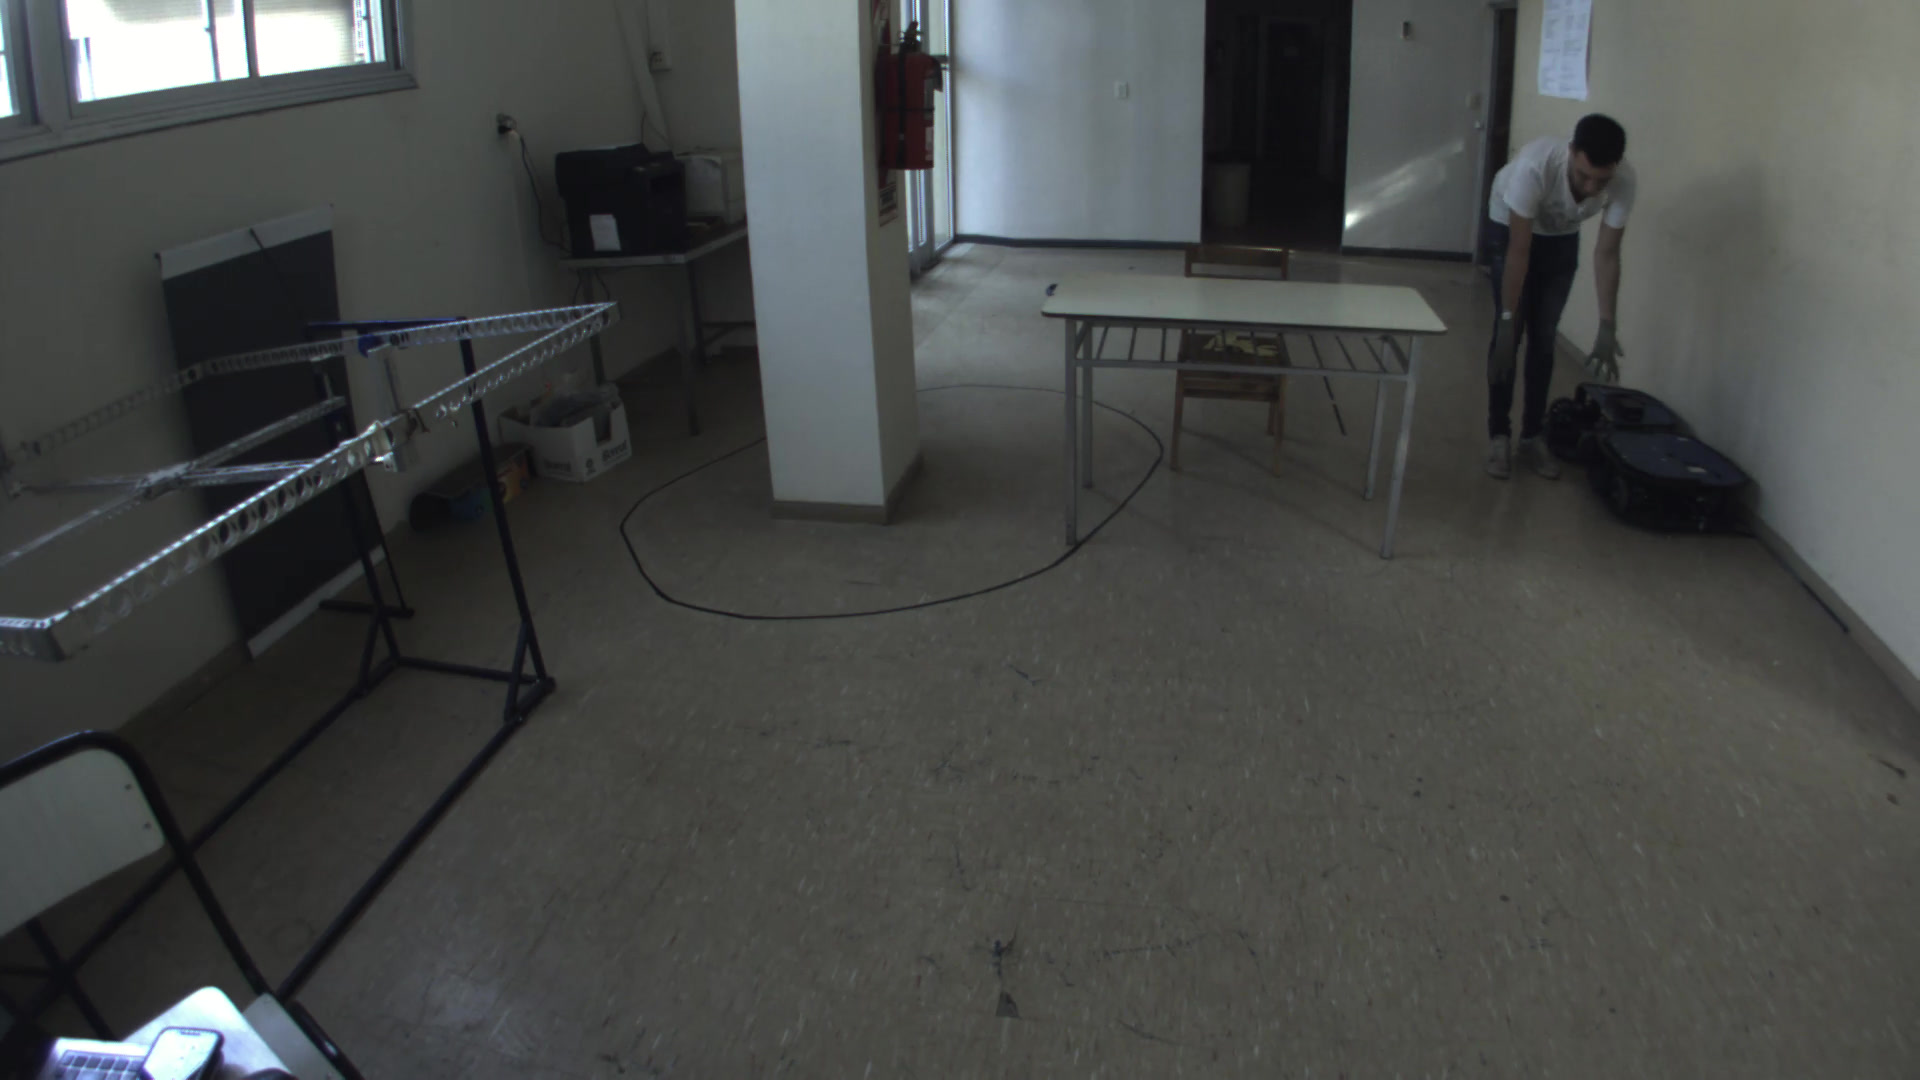hand: (1478, 316, 1531, 392), (1578, 314, 1630, 390)
